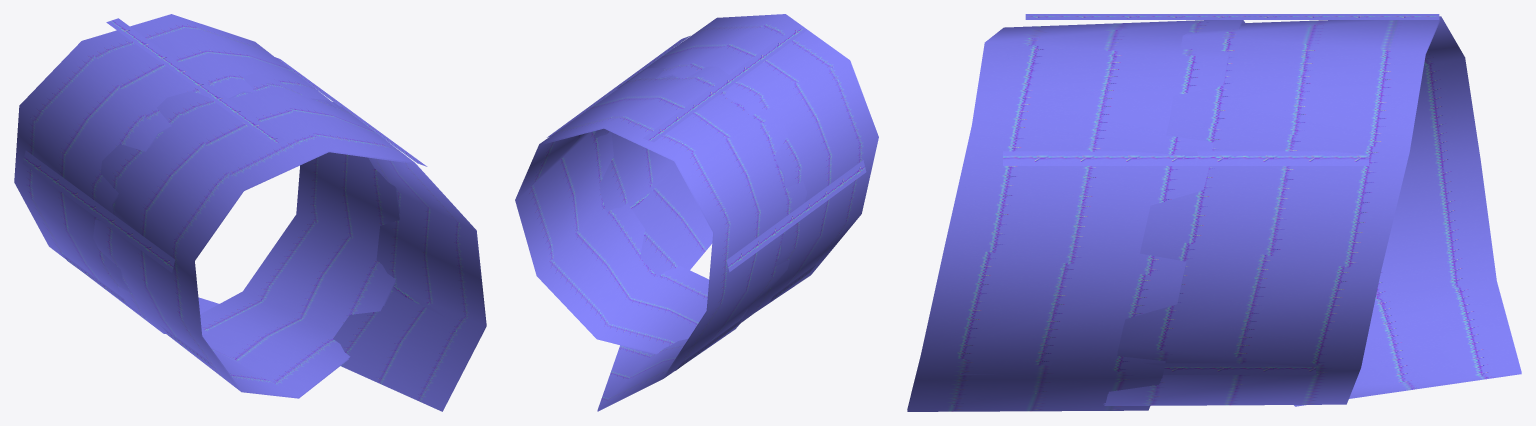
The model's file is BarbedWireFence_1m.FBX.
3 views of the same model, side by side, from view 1: azimuth 30°, elevation 25°; view 2: azimuth 150°, elevation 25°; view 3: azimuth 270°, elevation 25° (orthographic). The views are drawn at different scales.
Parts seen in each view (by area): view 1: BarbedWireFence_1m; view 2: BarbedWireFence_1m; view 3: BarbedWireFence_1m.
Part boxes in pixels (box(x1,y1,x2,y2)): BarbedWireFence_1m: box(14, 14, 486, 411); BarbedWireFence_1m: box(515, 14, 878, 411); BarbedWireFence_1m: box(907, 14, 1521, 411).
Bounding box in the file's own units: 95.65 × 101 × 159.
